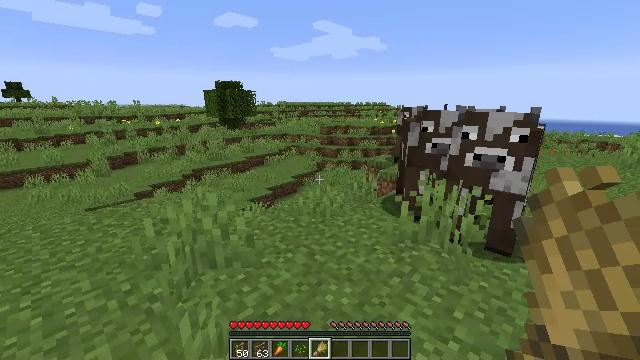cow: (460, 113, 547, 245), (404, 108, 459, 213)
